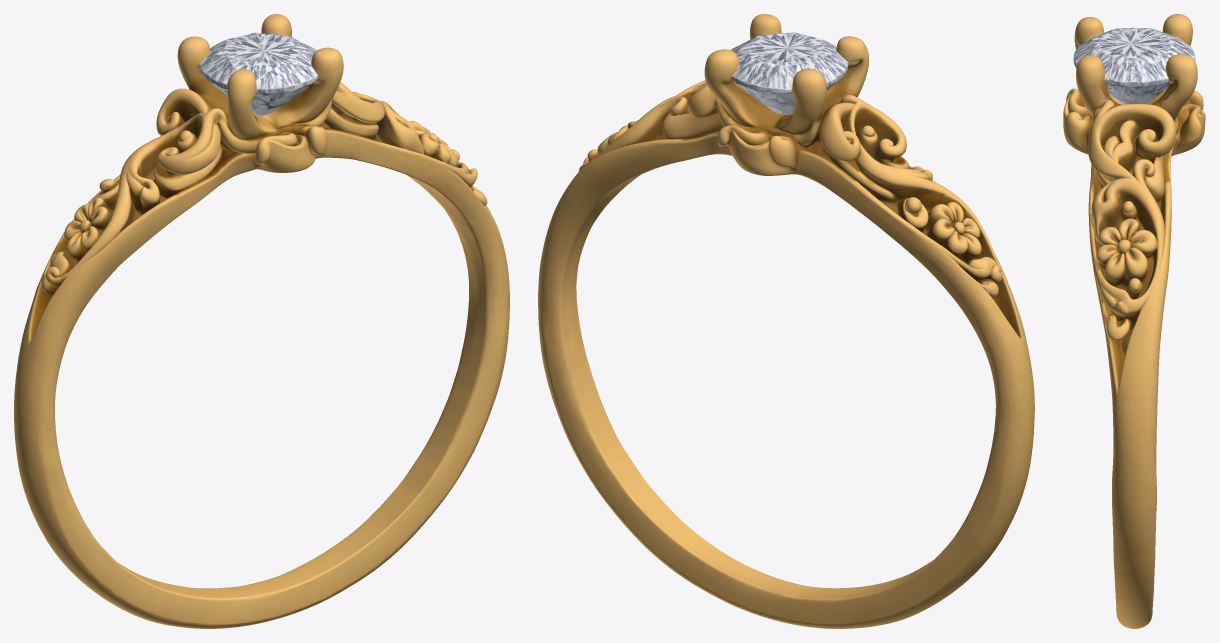
The model's file is solitaire_5.glb.
The picture shows the model from 3 angles, left to right: view 1: azimuth 30°, elevation 25°; view 2: azimuth 150°, elevation 25°; view 3: azimuth 270°, elevation 25°; orthographic projection. The views are drawn at different scales.
Size of the model in its own units: 1.69 by 1.9 by 0.4357.
1 material, 1 textured.
